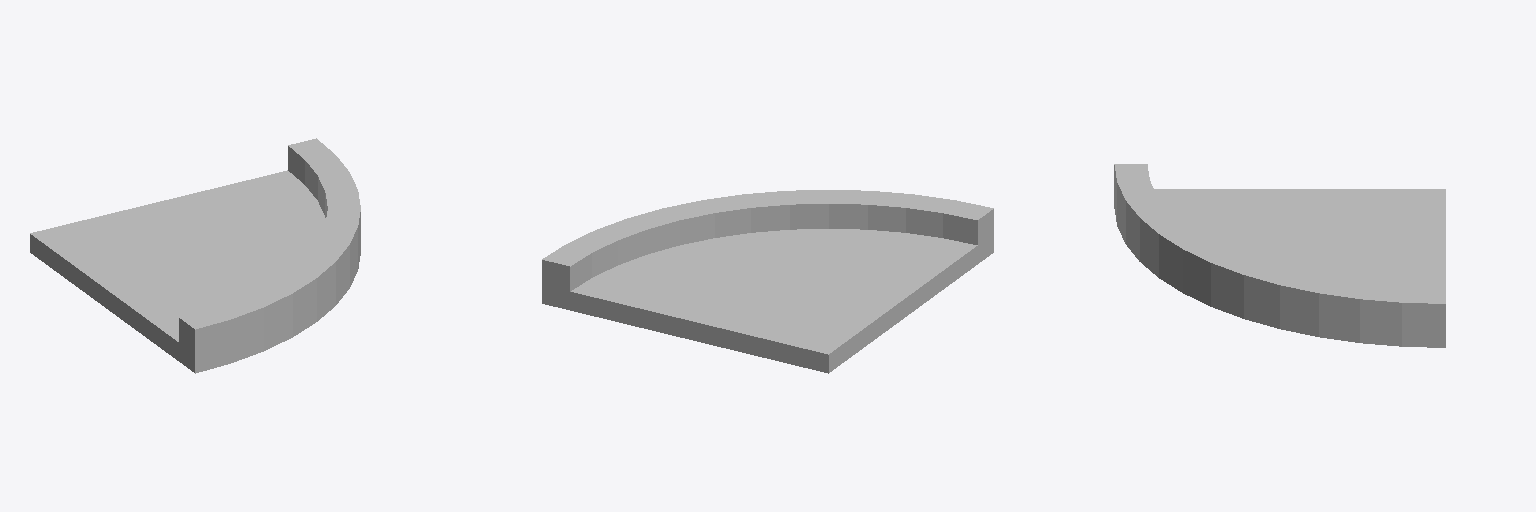
The model's file is roundCornerC.obj.
The picture shows the model from 3 angles: view 1: azimuth 30°, elevation 25°; view 2: azimuth 150°, elevation 25°; view 3: azimuth 270°, elevation 25°; orthographic projection.
Parts seen in each view (by area): view 1: roundCornerC; view 2: roundCornerC; view 3: roundCornerC.
Boxes of the visible parts, box(x1,y1,x2,y2) form: roundCornerC: box(30, 138, 360, 373); roundCornerC: box(542, 190, 993, 373); roundCornerC: box(1114, 164, 1445, 347).
Bounding box in the file's own units: 0.9999 × 0.1467 × 0.9999.